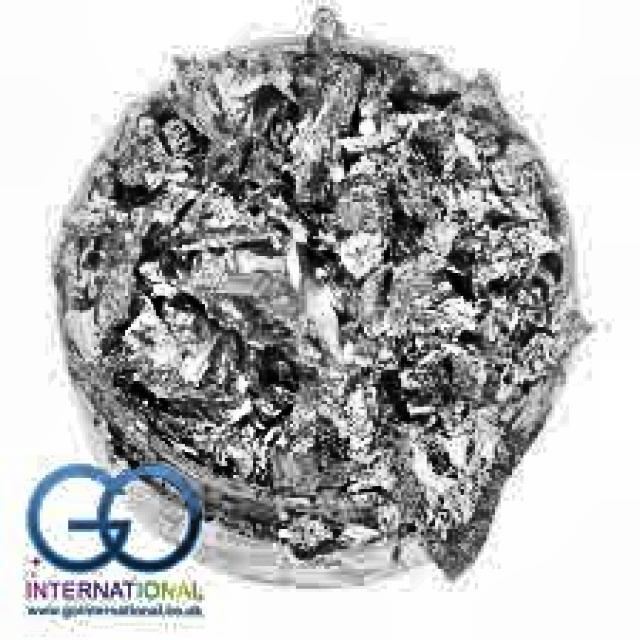Foil: (42, 19, 610, 588)
